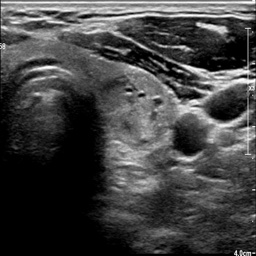mass: (100, 71, 177, 147)
